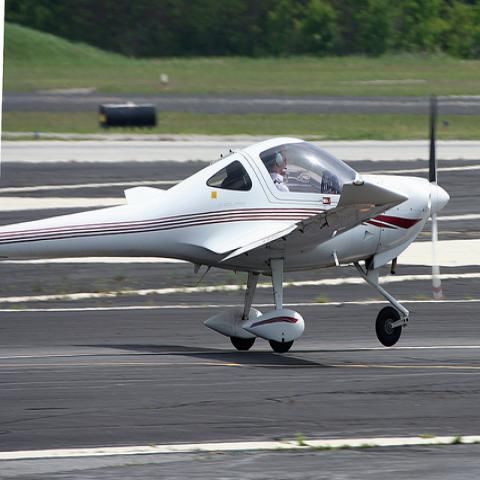bus: (97, 103, 156, 127)
